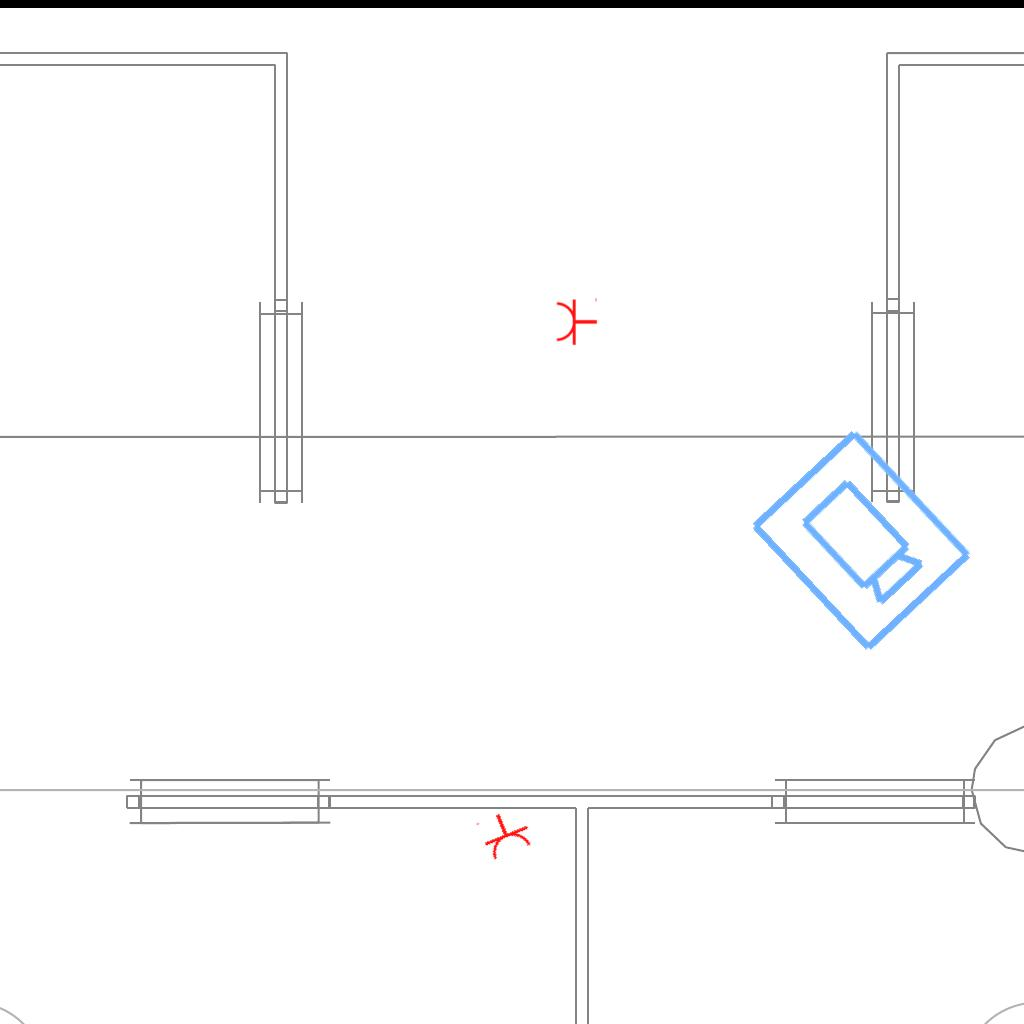KFO_Kamera_mit_Festobjektiv: (741, 421, 979, 661)
Schukosteckdose_einfach: (473, 804, 536, 864), (555, 296, 598, 346)
